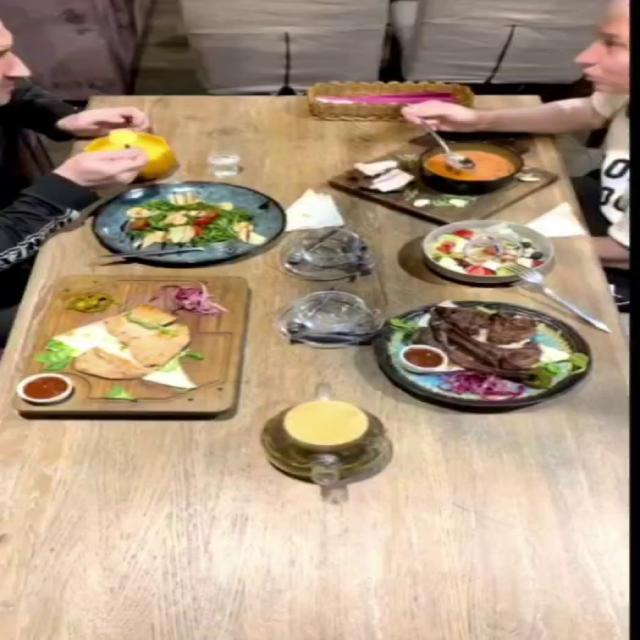alcohol: (212, 151, 262, 188)
meat: (371, 300, 591, 407)
salat: (88, 180, 283, 264), (421, 219, 556, 284)
soup: (326, 143, 558, 226), (84, 128, 176, 180)
tea: (283, 399, 369, 446)
